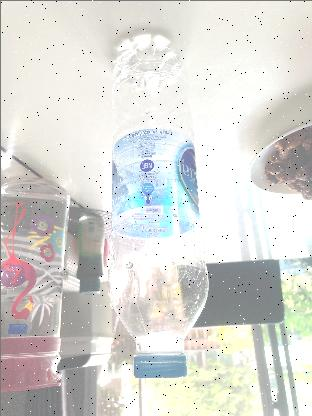Plastic Bottle: (104, 40, 212, 382)
